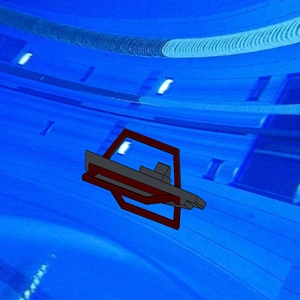submarine: (80, 124, 211, 238)
